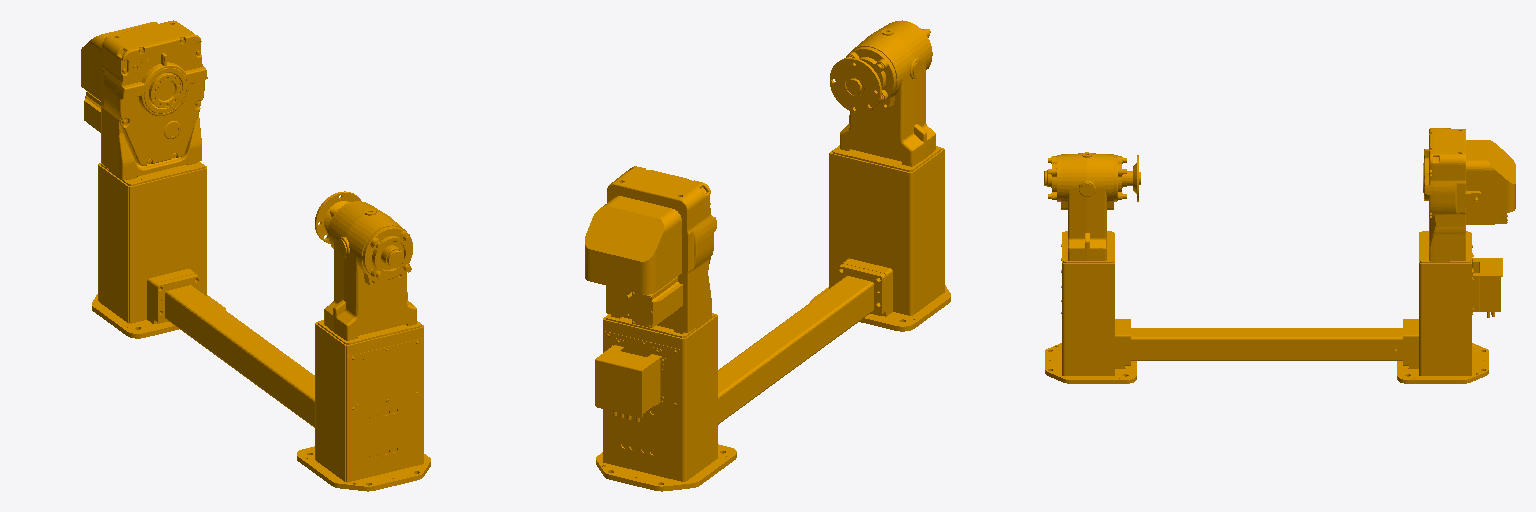
URDF robot description (Irbpl_1000_L1250):
<?xml version="1.0" ?>
<robot name="Irbpl_1000_L1250">

<link name="base_link">
  <inertial>
    <origin xyz="-0.0007423705168138692 -0.6784660997448527 0.5144731712732543" rpy="0 0 0"/>
    <mass value="1509.2153378617732"/>
    <inertia ixx="1213.248649" iyy="179.020534" izz="1061.185667" ixy="0.963275" iyz="-76.44417" ixz="0.445979"/>
  </inertial>
  <visual>
    <origin xyz="0 0 0" rpy="0 0 0"/>
    <geometry>
      <mesh filename="meshes/base_link.stl" scale="0.001 0.001 0.001"/>
    </geometry>
  </visual>
  <collision>
    <origin xyz="0 0 0" rpy="0 0 0"/>
    <geometry>
      <mesh filename="meshes/base_link.stl" scale="0.001 0.001 0.001"/>
    </geometry>
  </collision>
</link>

<link name="Component2_1">
  <inertial>
    <origin xyz="5.913129006636238e-16 -0.0433678656005458 0.0011124864301171877" rpy="0 0 0"/>
    <mass value="21.25030383337243"/>
    <inertia ixx="0.231342" iyy="0.446816" izz="0.228504" ixy="-0.0" iyz="-0.000583" ixz="-0.0"/>
  </inertial>
  <visual>
    <origin xyz="-0.0 0.103 -0.949" rpy="0 0 0"/>
    <geometry>
      <mesh filename="meshes/Component2_1.stl" scale="0.001 0.001 0.001"/>
    </geometry>
  </visual>
  <collision>
    <origin xyz="-0.0 0.103 -0.949" rpy="0 0 0"/>
    <geometry>
      <mesh filename="meshes/Component2_1.stl" scale="0.001 0.001 0.001"/>
    </geometry>
  </collision>
</link>

<joint name="j1" type="continuous">
  <origin xyz="0.0 -0.103 0.949" rpy="0 0 0"/>
  <parent link="base_link"/>
  <child link="Component2_1"/>
  <axis xyz="-0.0 1.0 0.0"/>
</joint>

</robot>

--- Facts derived from the render (not from the file) ---
The picture shows the robot from 3 angles, left to right: view 1: azimuth 30°, elevation 25°; view 2: azimuth 150°, elevation 25°; view 3: azimuth 270°, elevation 25°; orthographic projection.
Model Irbpl_1000_L1250 with 2 links and 1 joints (1 continuous), rooted at base_link, posed all joints at 0.
Links seen in each view (by area): view 1: base_link; view 2: base_link; view 3: base_link.
Link boxes in pixels (x1=…): base_link: x1=81, y1=20, x2=430, y2=491; base_link: x1=585, y1=20, x2=950, y2=491; base_link: x1=1044, y1=128, x2=1515, y2=383.
Bounding box of the posed robot: 0.43 × 2.18 × 1.14 m (x, y, z).
Meshes: 2 distinct files referenced, 1 mesh visuals loaded (1 binary STL); not drawn: 1 (reference not matched to a file when rendering).